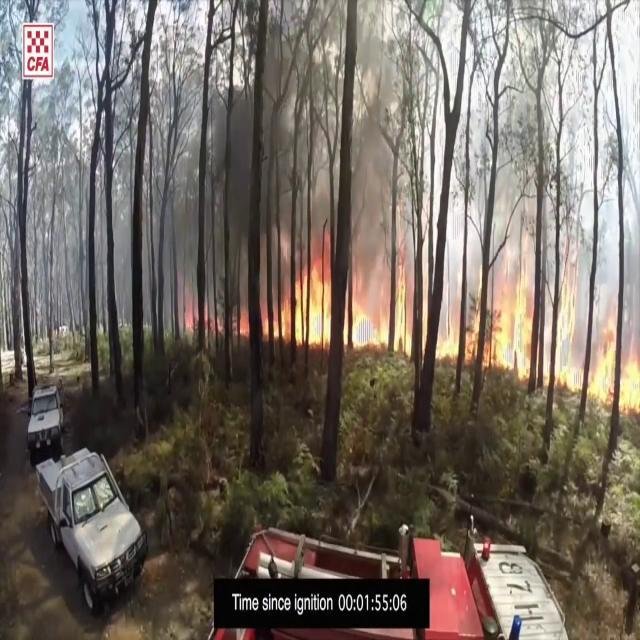Fire: (455, 282, 640, 410), (270, 244, 420, 354)
Smoke: (173, 0, 341, 283)
